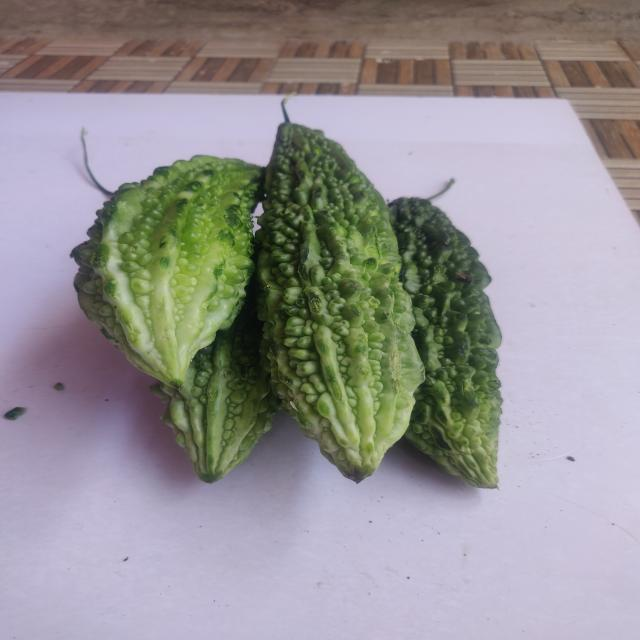Bitter Gourd: (256, 120, 424, 482), (72, 156, 261, 388), (389, 197, 502, 489), (149, 293, 280, 484)
